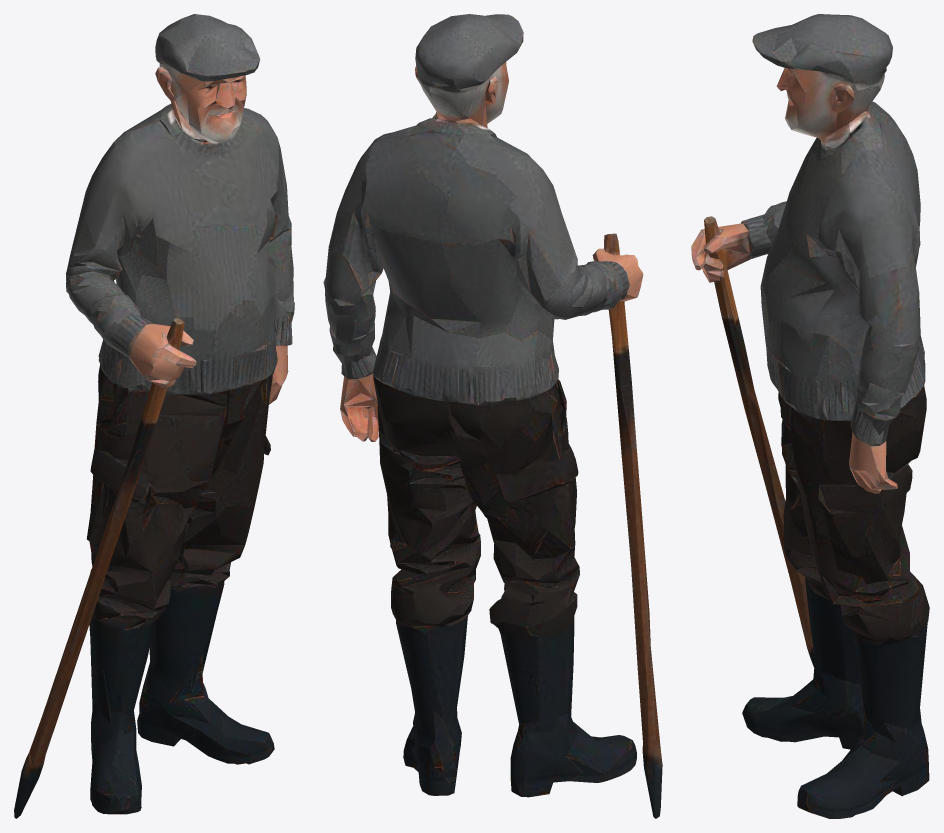
The model's file is shepherd.glb.
3 views of the same model, side by side, from view 1: azimuth 30°, elevation 25°; view 2: azimuth 150°, elevation 25°; view 3: azimuth 270°, elevation 25° (orthographic). The views are drawn at different scales.
Size of the model in its own units: 0.8026 by 1.9 by 0.5253.
Materials: 1 (1 with a texture image).
